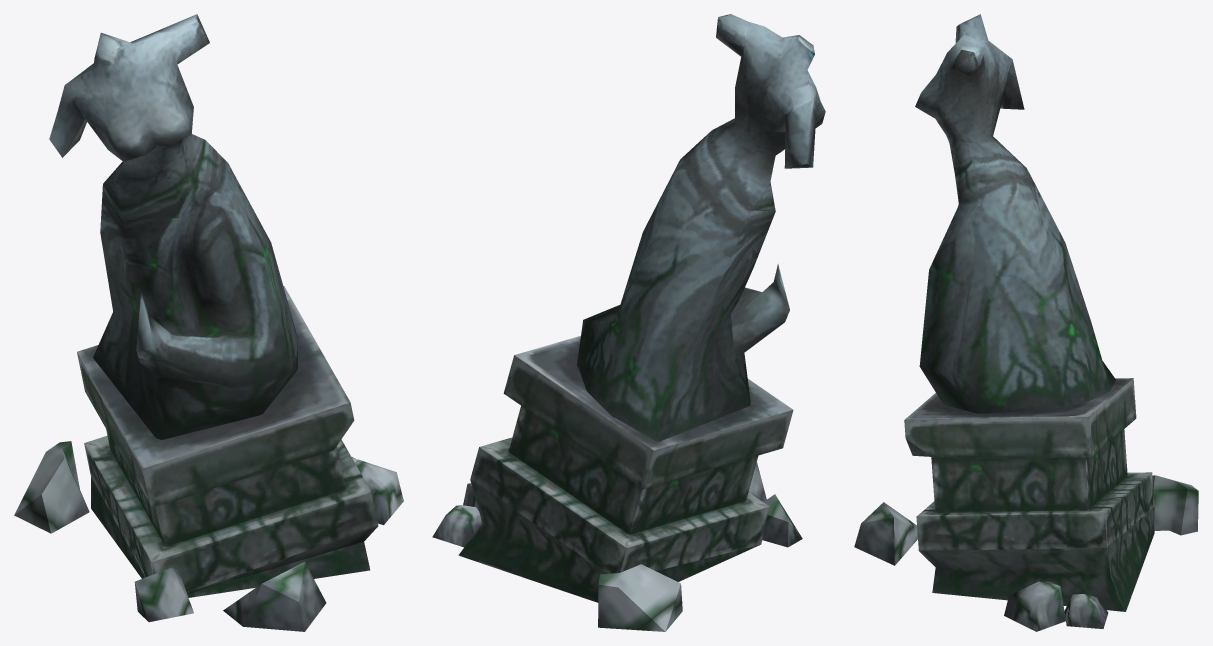
Rendered from stemple_statue_02.fbx.
3 renders of one model, left to right at view 1: azimuth 30°, elevation 25°; view 2: azimuth 150°, elevation 25°; view 3: azimuth 270°, elevation 25°, orthographic. The views are drawn at different scales.
Visible parts, largest first — view 1: stemple_statue_02_mat; view 2: stemple_statue_02_mat; view 3: stemple_statue_02_mat.
Part boxes in pixels (box(x1,y1,x2,y2)): stemple_statue_02_mat: box(14, 14, 403, 631); stemple_statue_02_mat: box(432, 14, 825, 631); stemple_statue_02_mat: box(854, 14, 1198, 631).
Bounding box in the file's own units: 3.24 × 4.84 × 3.15.
